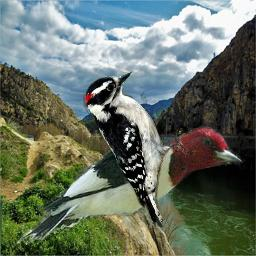Woodpecker: (14, 117, 251, 255), (83, 71, 197, 227)
